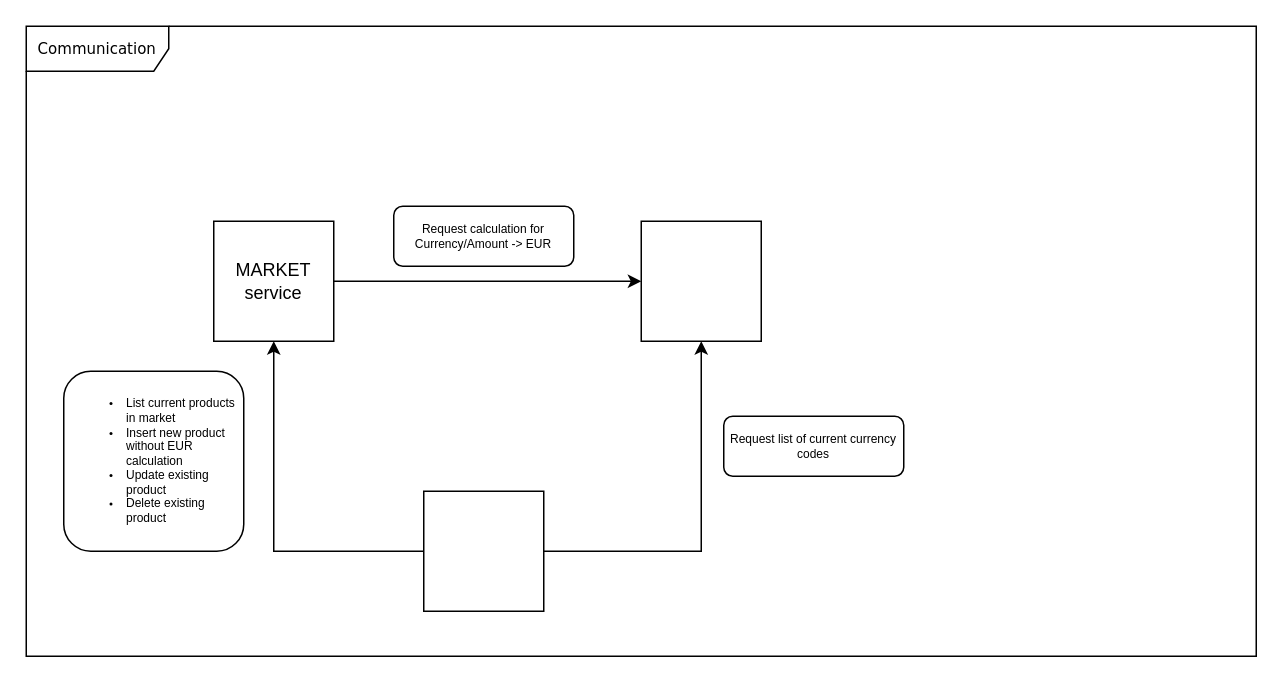
This 1283x683 diagram has some shape labels left out. The shapes that lost their labels are listed below. From the top down, each one's centre as x and y in pixels, then its label:
At [700,280]: "EXCHANGE service".
At [483,550]: "MARKET web".
